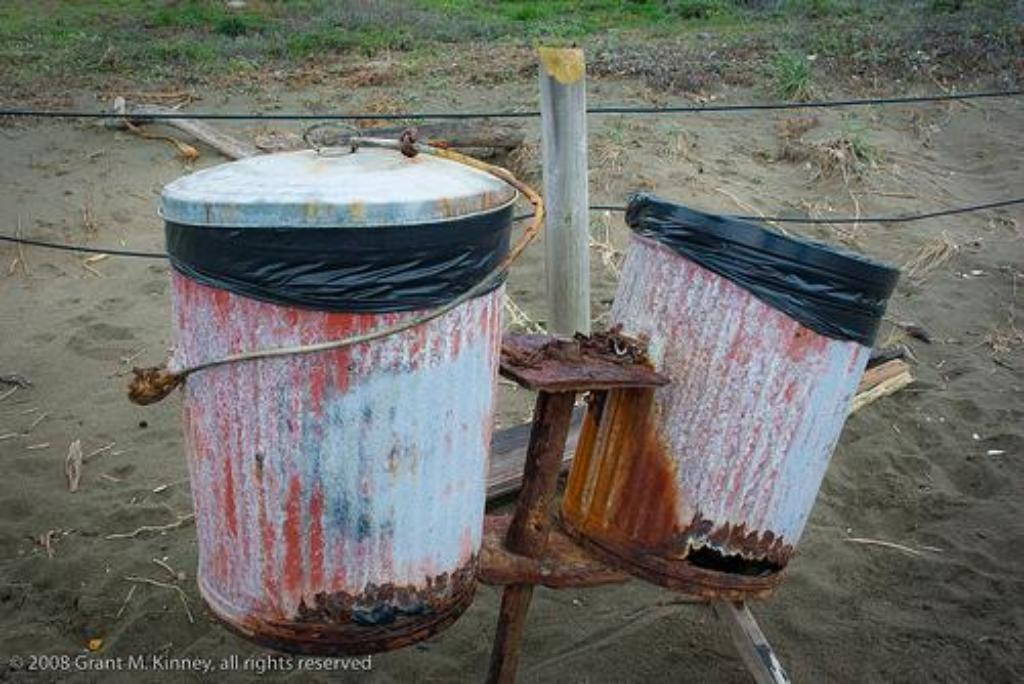dustbin: (179, 120, 521, 653), (586, 204, 899, 598)
